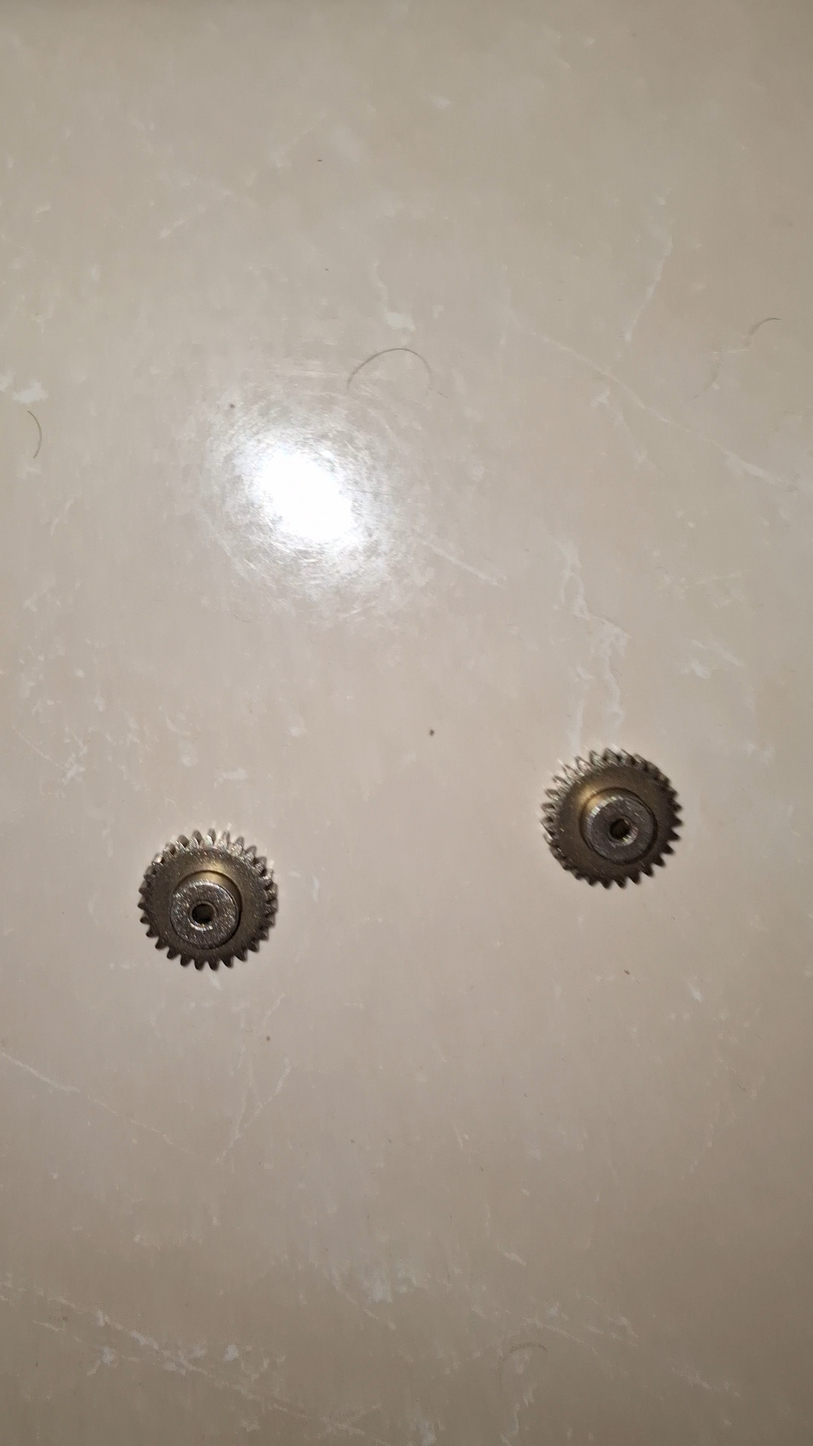spur gear: (140, 830, 277, 968), (543, 749, 680, 887)
